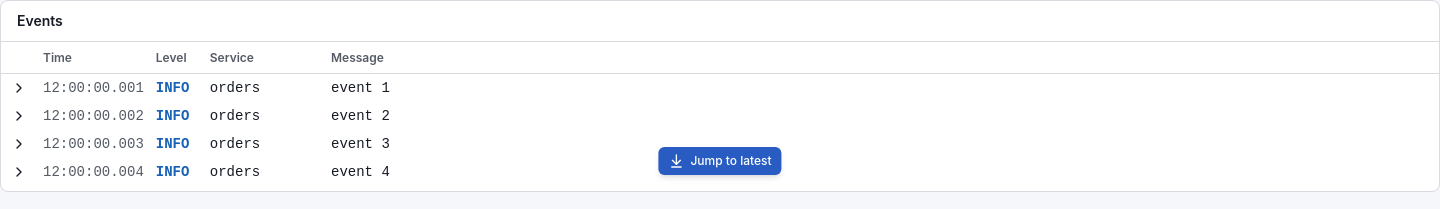
Test: LogGrid › stops following when the user scrolls up, and Jump to latest resumes it
Check: the row "12:00:00.001 info orders event 1" is shown, box [7, 76, 390, 100]
Click the button "Jump to latest".
click(720, 161)  # box [658, 147, 782, 175]
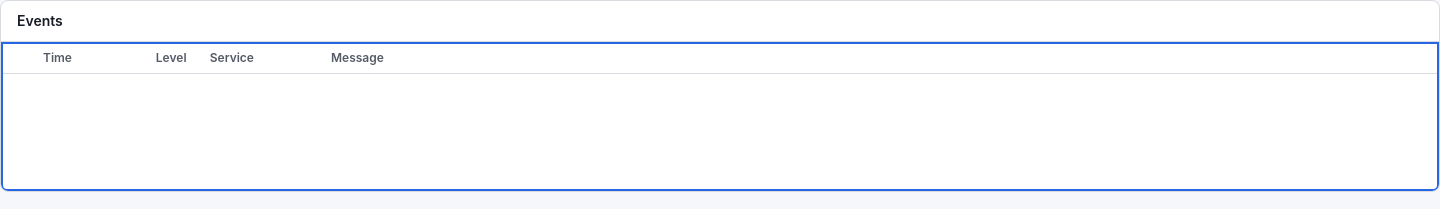
Check: the button "Jump to latest" is gone
